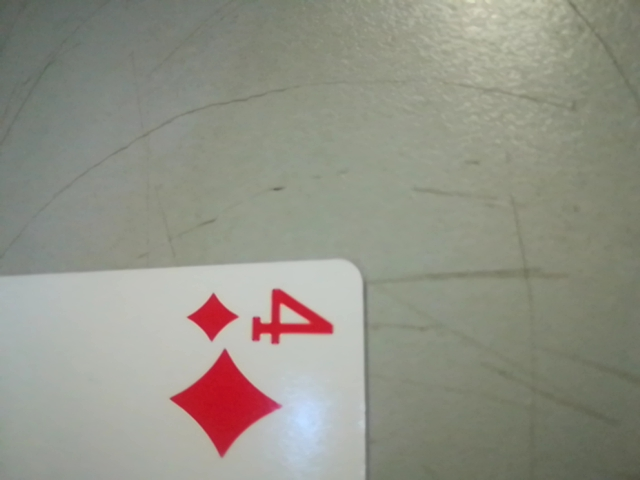fk 4: (188, 284, 342, 349)
